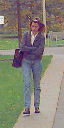person: (21, 18, 47, 111)
